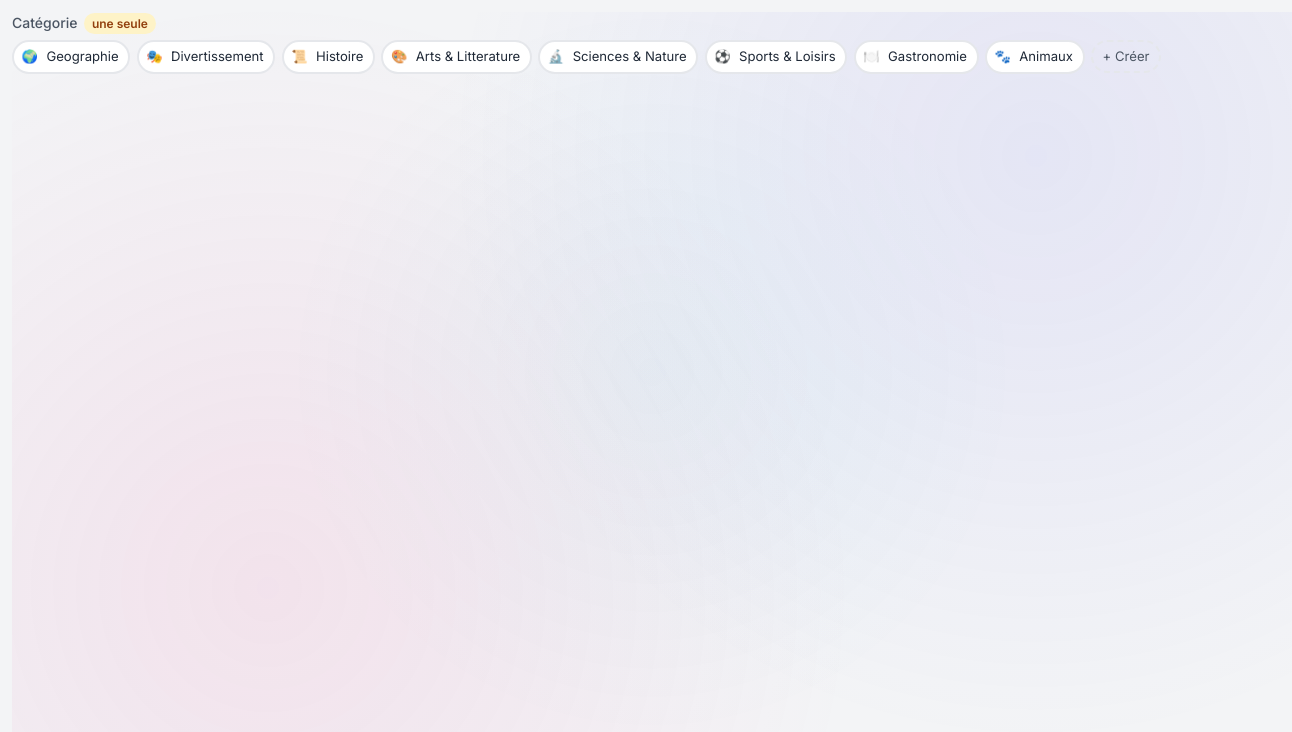
Test: CategoryPicker — allowCreate (single) › Valider avec un nom mais sans image : « Image requise », aucun fetch envoyé
Click the button titled "Créer une catégorie" at [1126, 57], box [1091,40,1161,74]
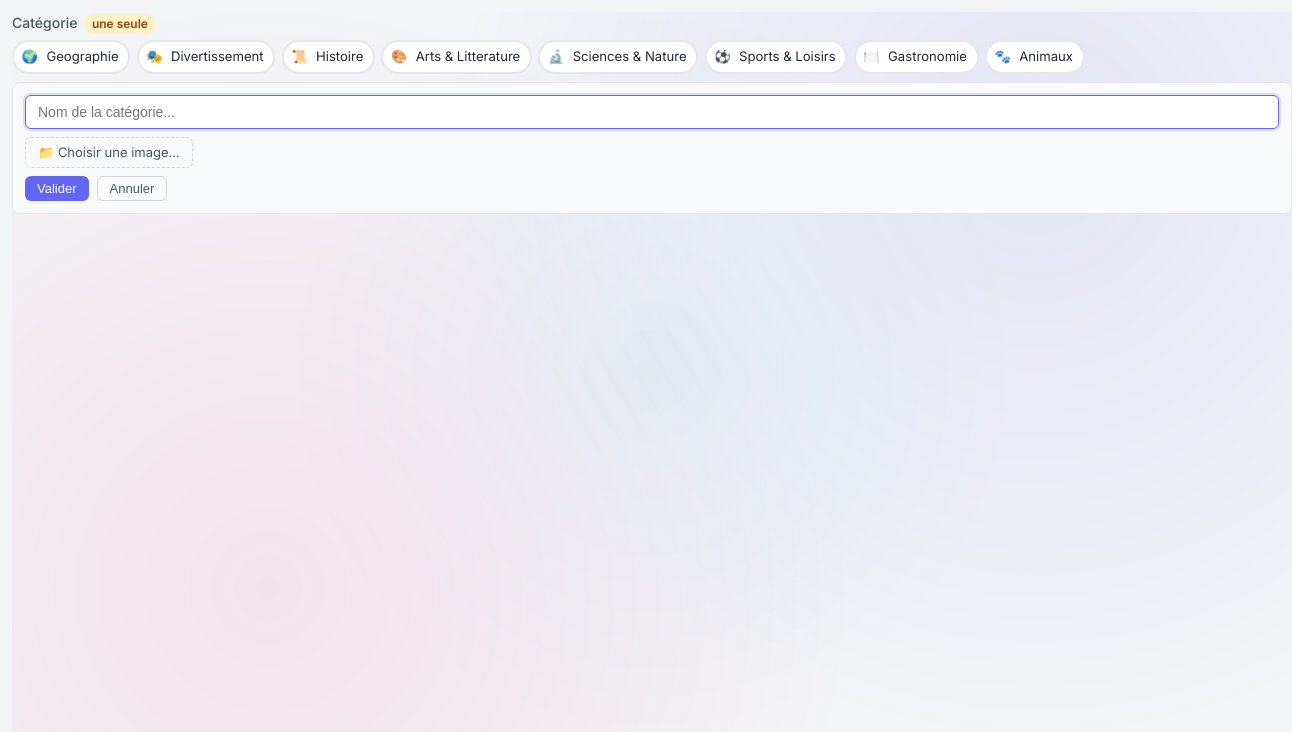
Type "Ma categorie" into the field with placeholder "Nom de la catégorie..." at [652, 112], box [25,95,1279,129]
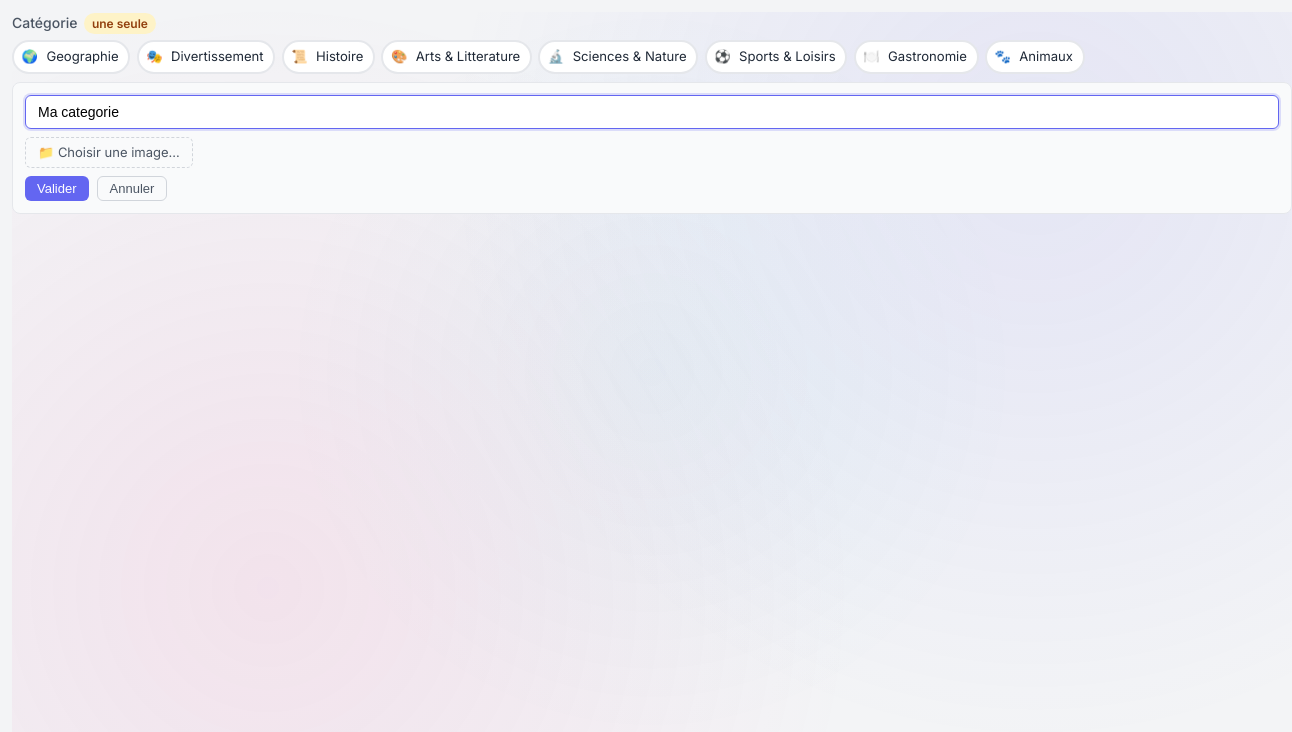
Click the button "Valider" at [57, 188], box [25,176,88,201]
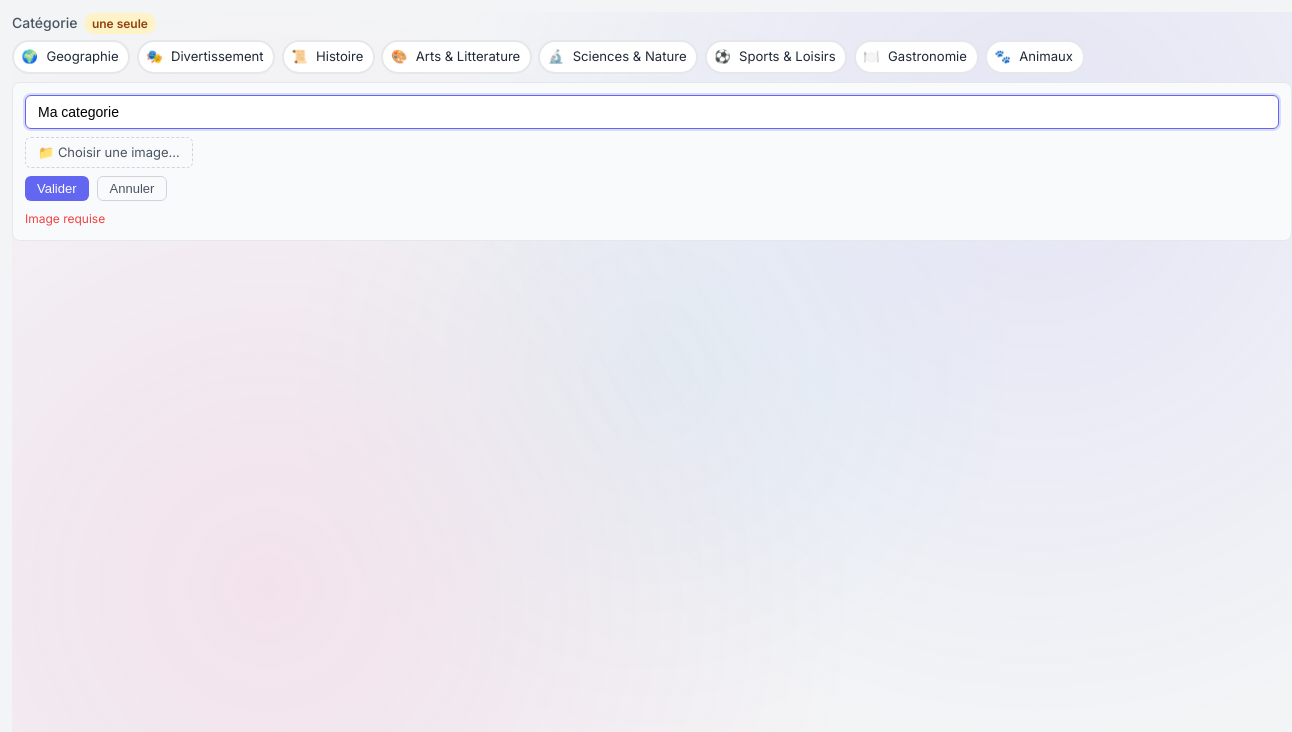
Check: the text "Image requise" is shown, box [25,211,105,226]
